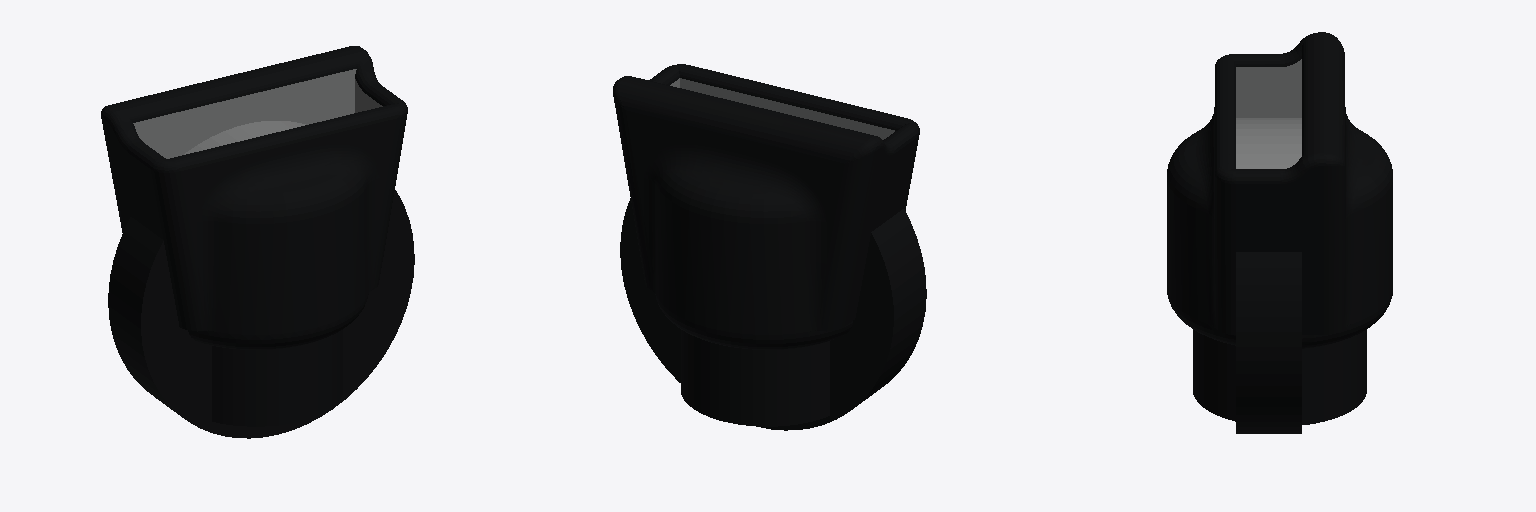
File: fls.obj
3 views of the same model, side by side, from view 1: azimuth 30°, elevation 25°; view 2: azimuth 150°, elevation 25°; view 3: azimuth 270°, elevation 25° (orthographic).
Visible parts, largest first — view 1: fls; view 2: fls; view 3: fls.
Part boxes in pixels (bbox=[...]): fls: bbox=[101, 46, 414, 438]; fls: bbox=[613, 64, 926, 430]; fls: bbox=[1167, 32, 1392, 433].
Size of the model in its own units: 0.0724 by 0.0823 by 0.052.